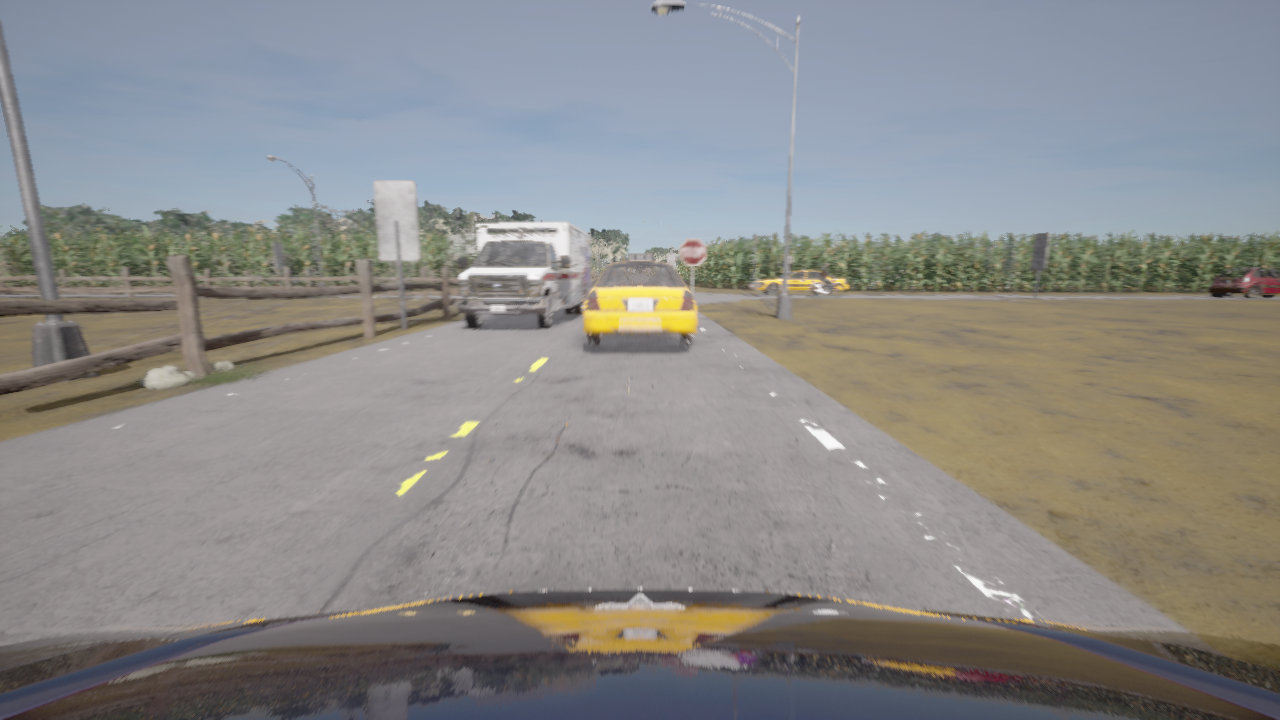cyclist: (0, 588, 1279, 719), (456, 222, 590, 328), (584, 253, 696, 344), (750, 268, 848, 295), (1208, 267, 1279, 298), (810, 275, 844, 296), (1225, 293, 1260, 296)
